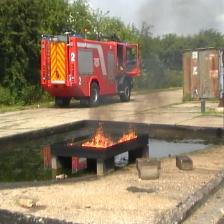fire: (87, 130, 136, 146)
